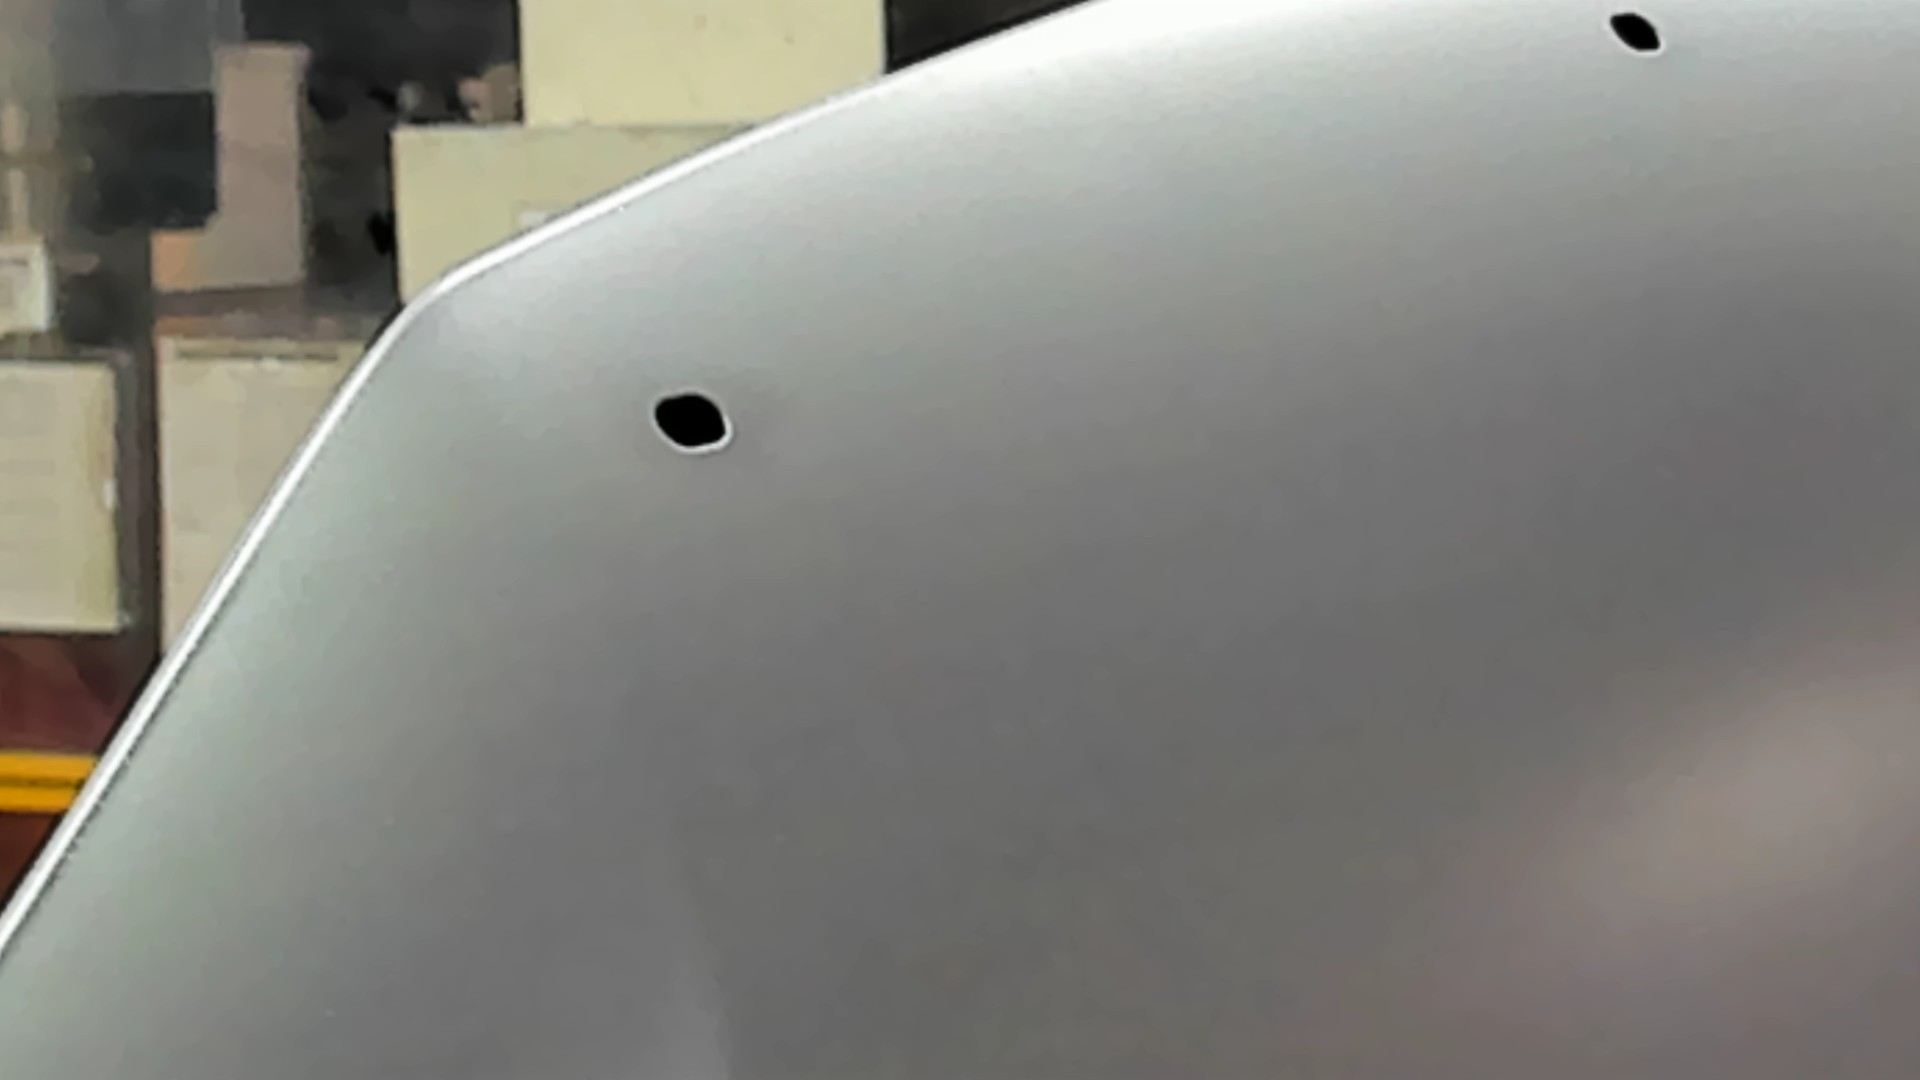amorfo: (638, 378, 742, 464), (1604, 1, 1673, 67)
capo: (858, 167, 1920, 1080)
